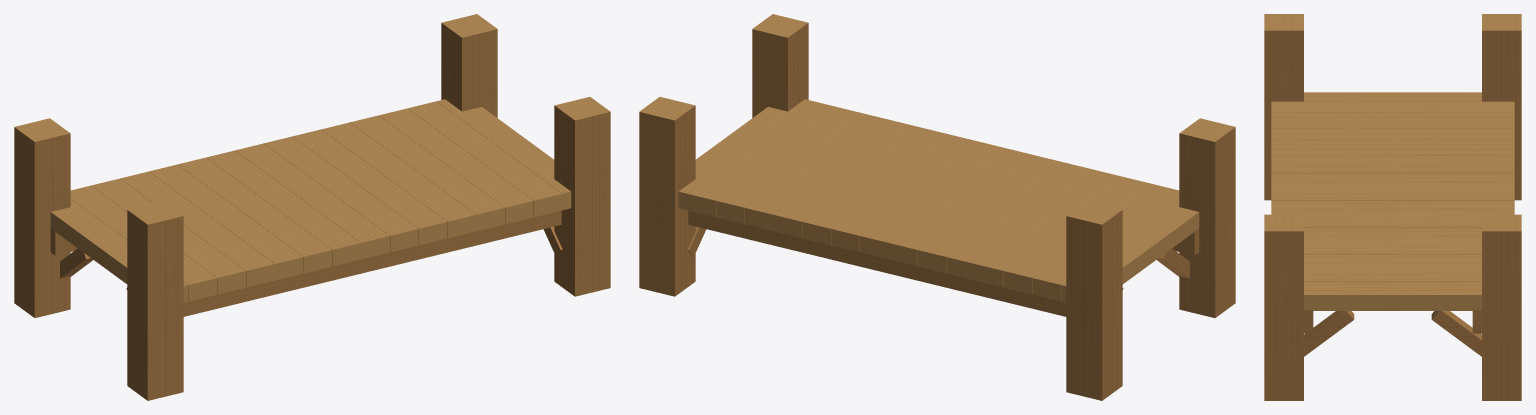
The model's file is dock.glb.
The picture shows the model from 3 angles, left to right: view 1: azimuth 30°, elevation 25°; view 2: azimuth 150°, elevation 25°; view 3: azimuth 270°, elevation 25°; orthographic projection. The views are drawn at different scales.
Parts seen in each view (by area): view 1: dock; view 2: dock; view 3: dock.
Part boxes in pixels (x1=…): dock: x1=14, y1=14, x2=610, y2=400; dock: x1=639, y1=14, x2=1235, y2=400; dock: x1=1264, y1=14, x2=1521, y2=400.
Size of the model in its own units: 4.4 by 1.6 by 2.2.
2 materials, 2 textured.
